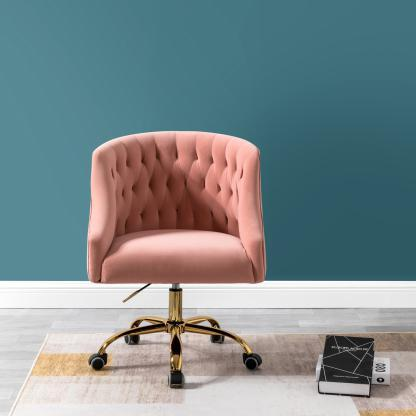chair: (77, 124, 276, 394)
